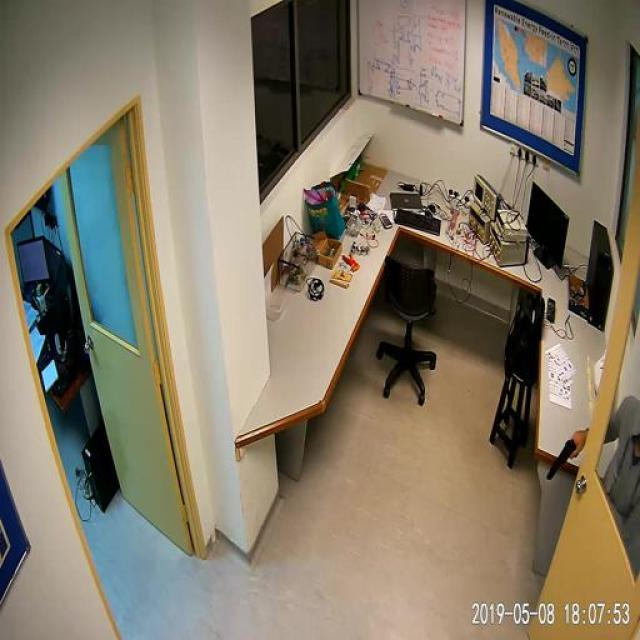Gun: (541, 425, 590, 500)
